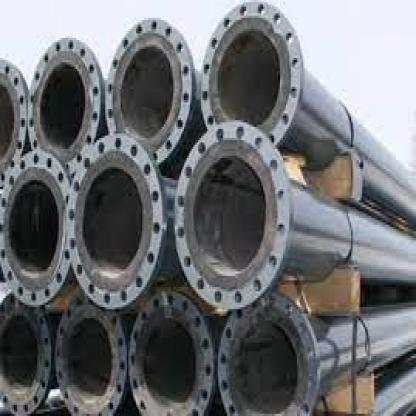pipe: (190, 147, 271, 282), (76, 163, 148, 281), (226, 312, 304, 414), (214, 25, 286, 134), (136, 314, 206, 414), (114, 42, 180, 144), (2, 174, 65, 280), (34, 58, 92, 151), (62, 314, 118, 408), (0, 309, 43, 408), (0, 74, 18, 170)
